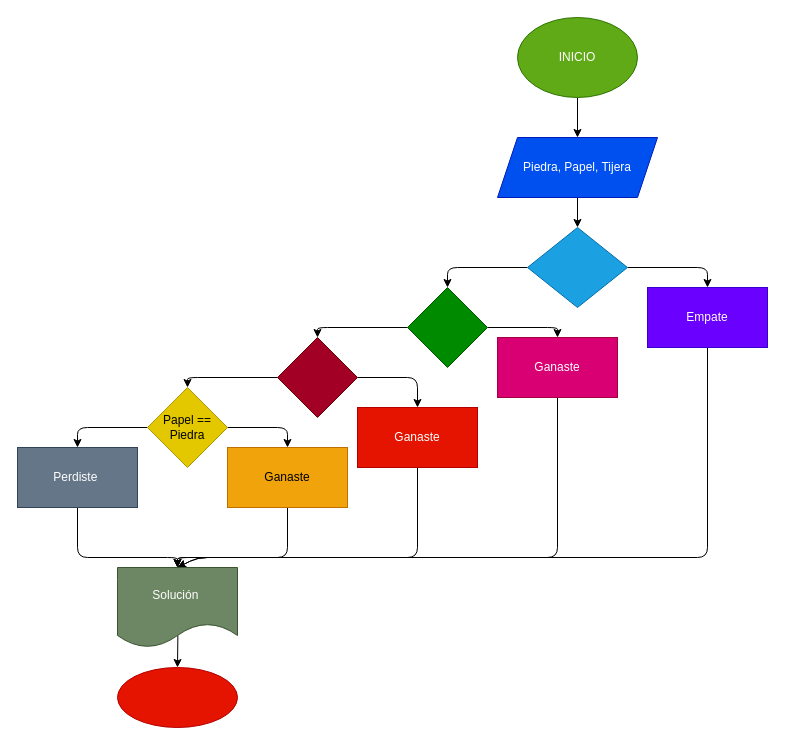
Some shapes in this 785 by 745 pixel diagram are drawn without their labels. The centre of each missing label's shape, as x and y in pixels:
"FIN" belongs at (177,697).
"Piedra == Tijera" belongs at (447,327).
"Tijera == Papel" belongs at (317,377).
"Usuario == Pc" belongs at (577,267).
